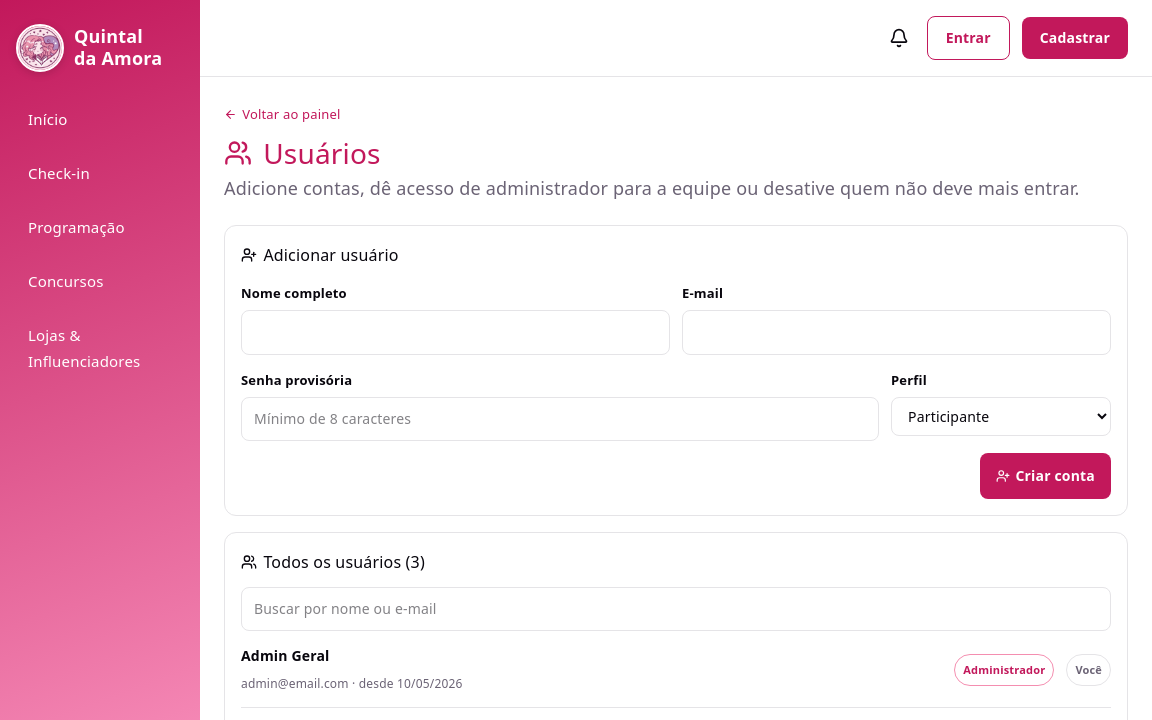
Test case: AdminUsers › busca por nome sem diferenciar acento e por e-mail
Type "jose" into the search field named "Buscar usuário" at (676, 609), box [241,587,1111,631]
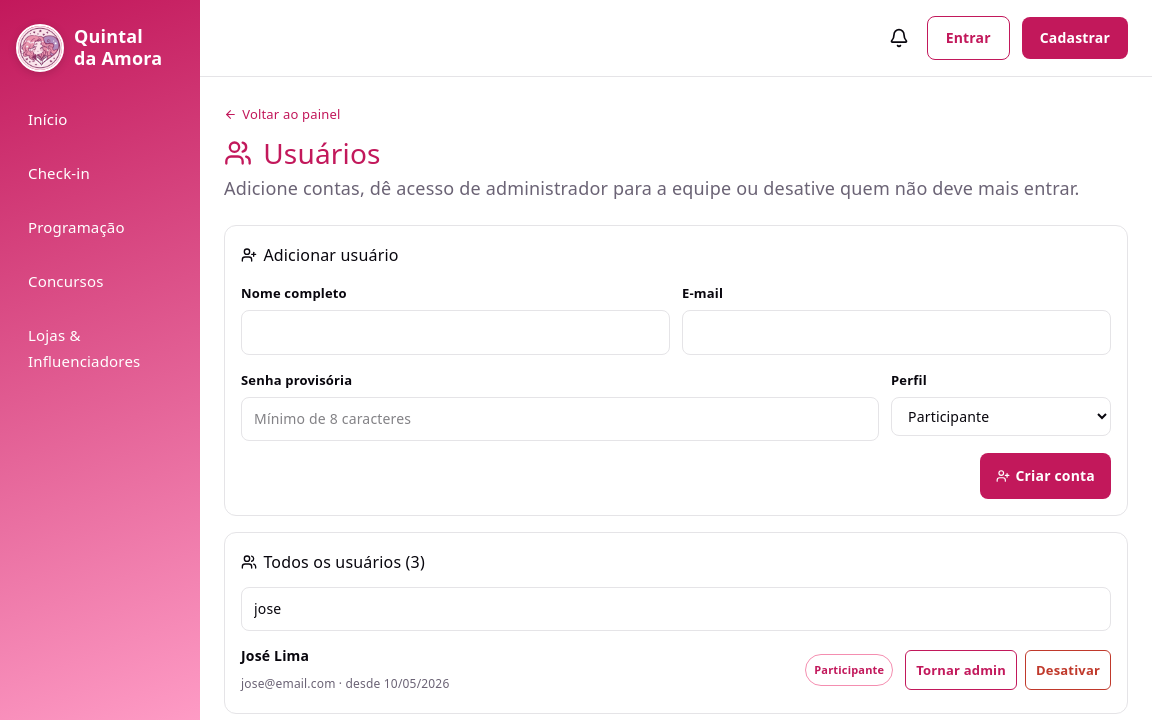
Check: the text "José Lima" is shown, box [241,646,309,665]
Replace the text in the search field named "Buscar usuário" with "nada@x" at (676, 609), box [241,587,1111,631]
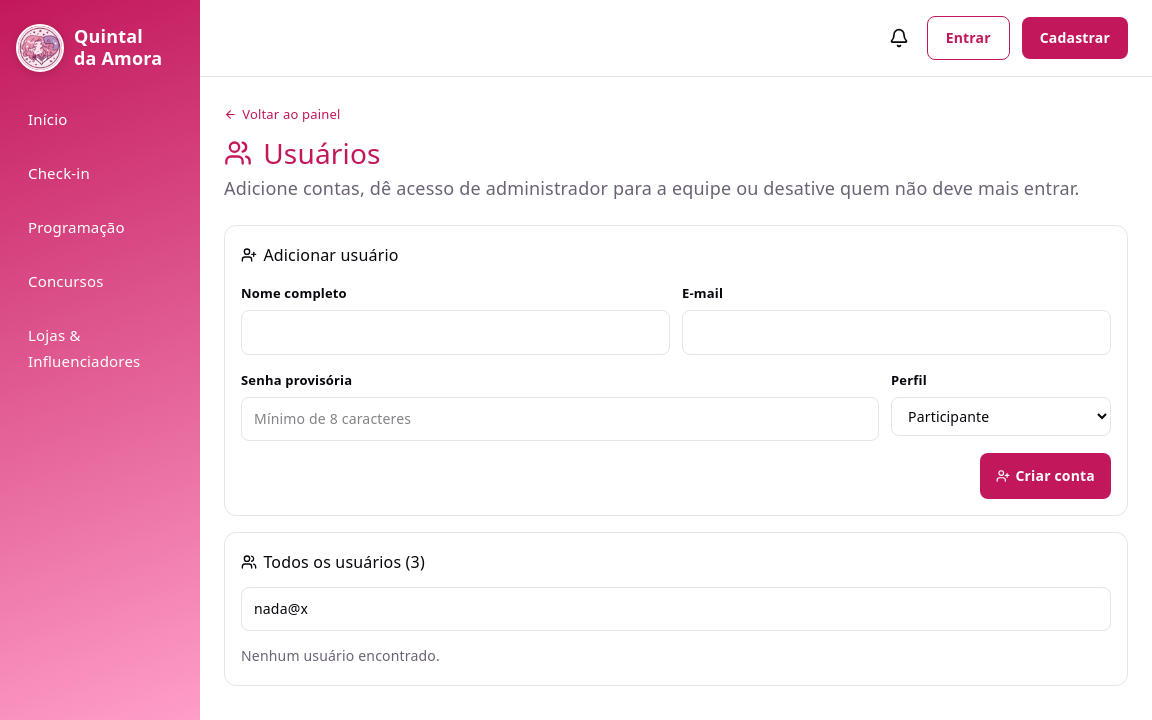
Check: the text "Nenhum usuário encontrado." is shown, box [241,646,440,665]
